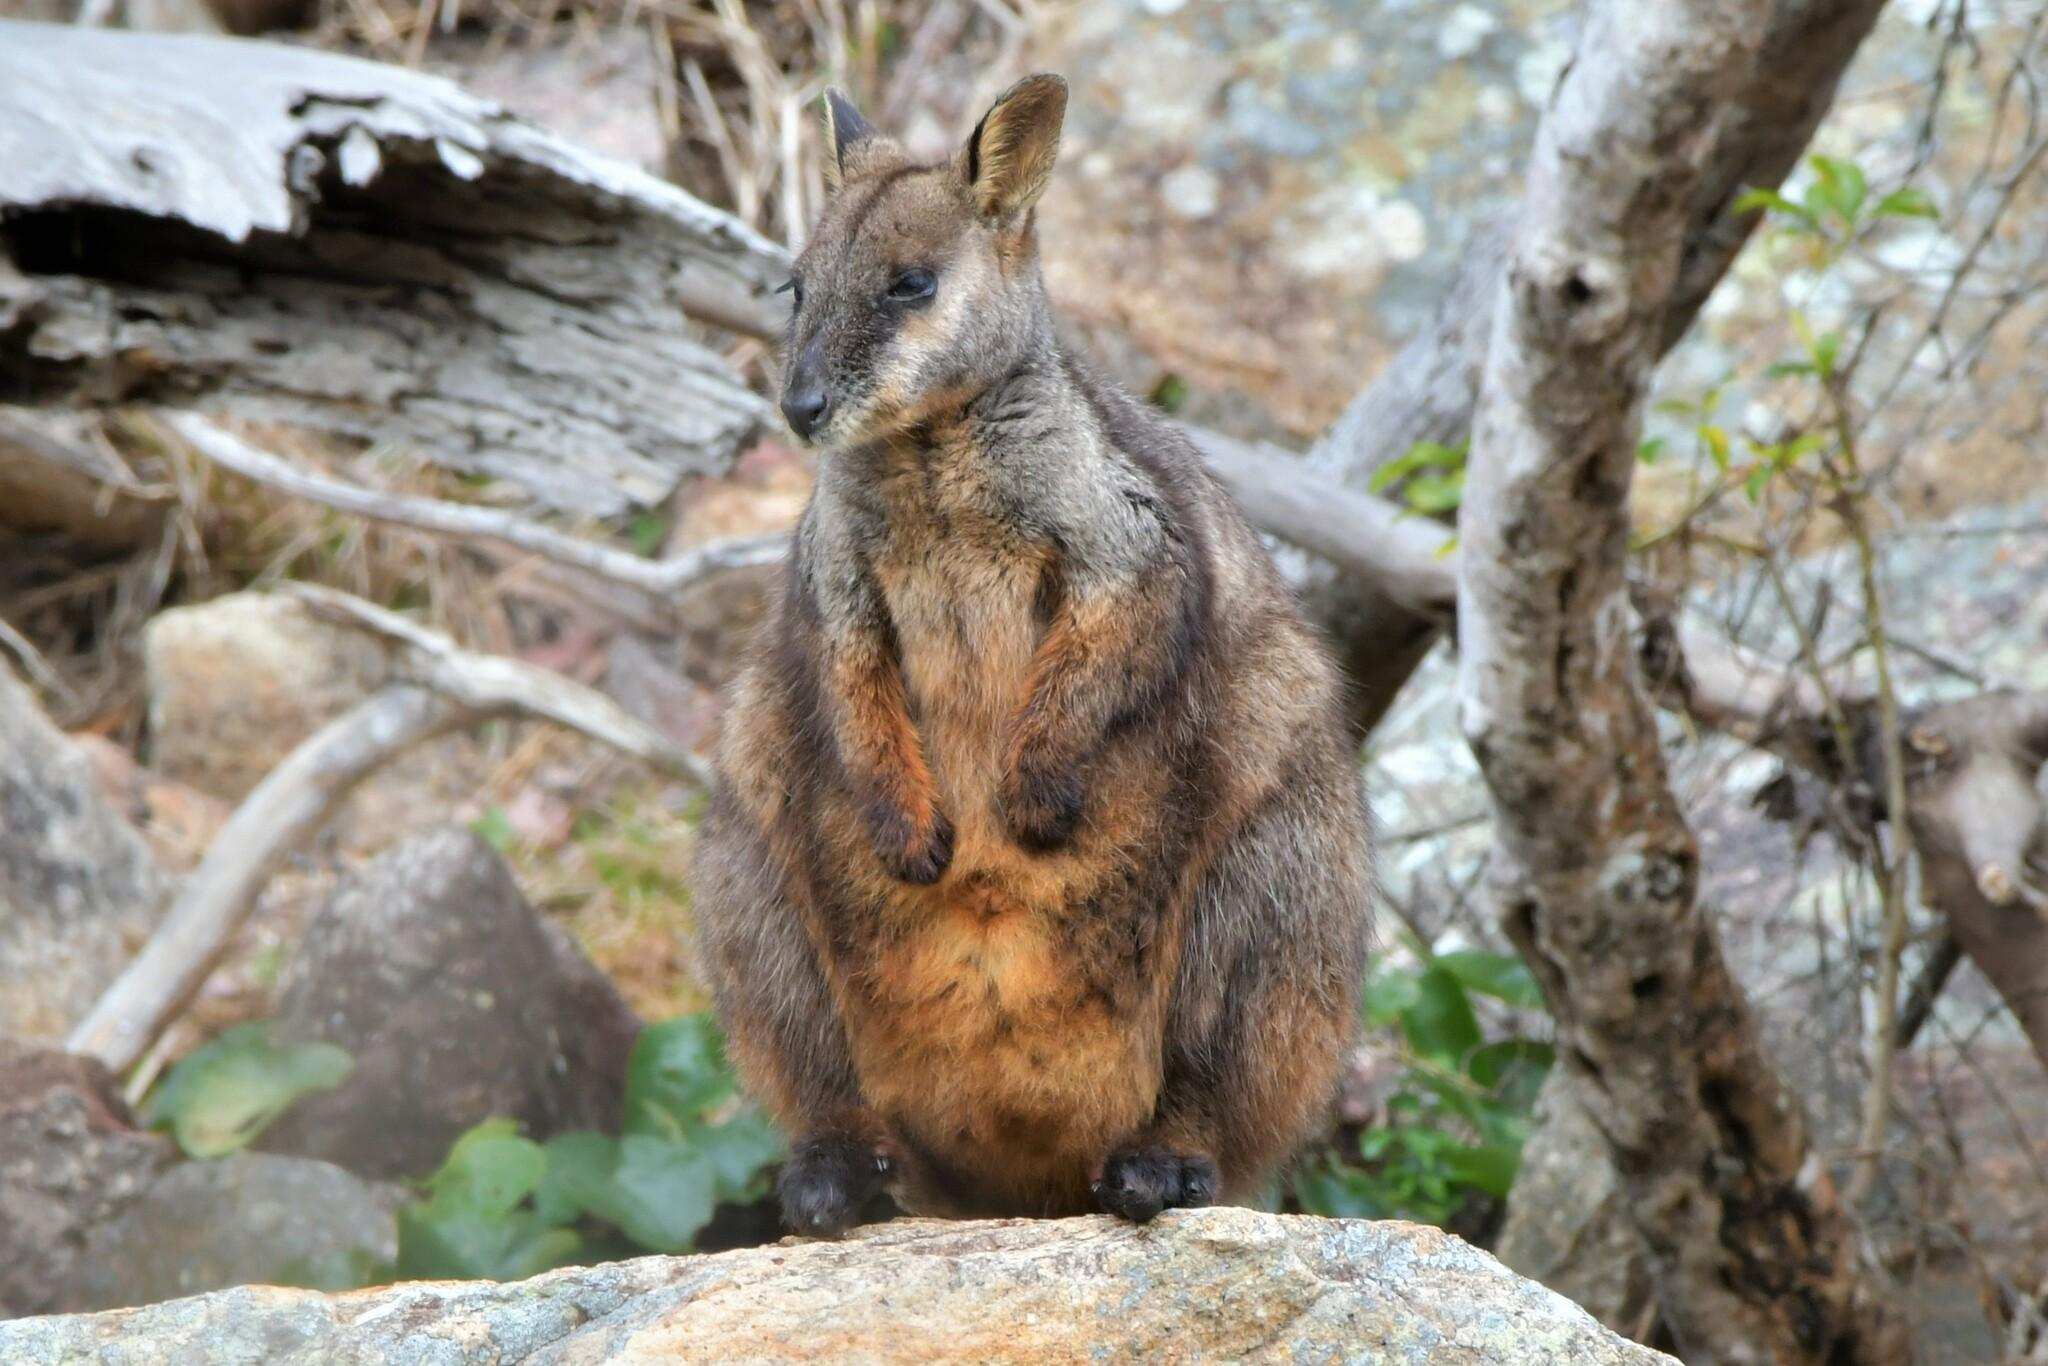Brush-tailed rock-wallaby: (692, 75, 1384, 1220)
